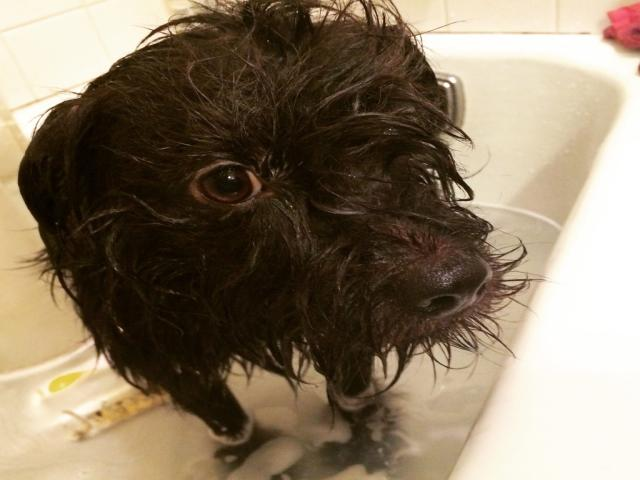Dog: (0, 0, 550, 475)
